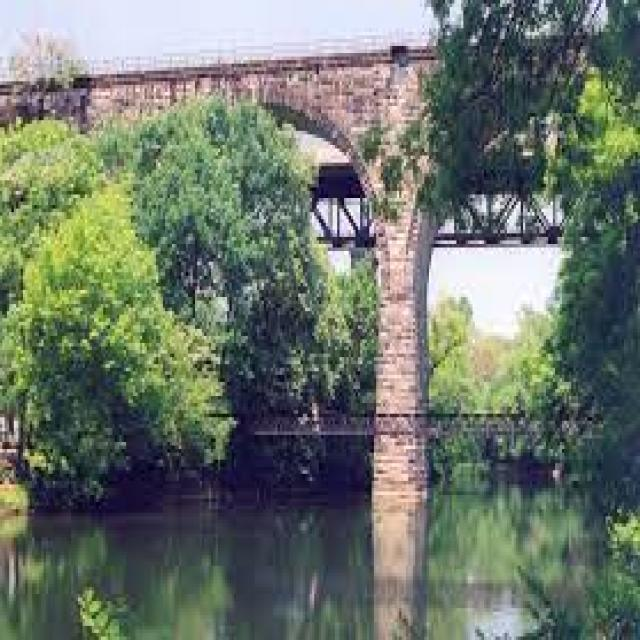Bridges: (0, 5, 612, 470)
